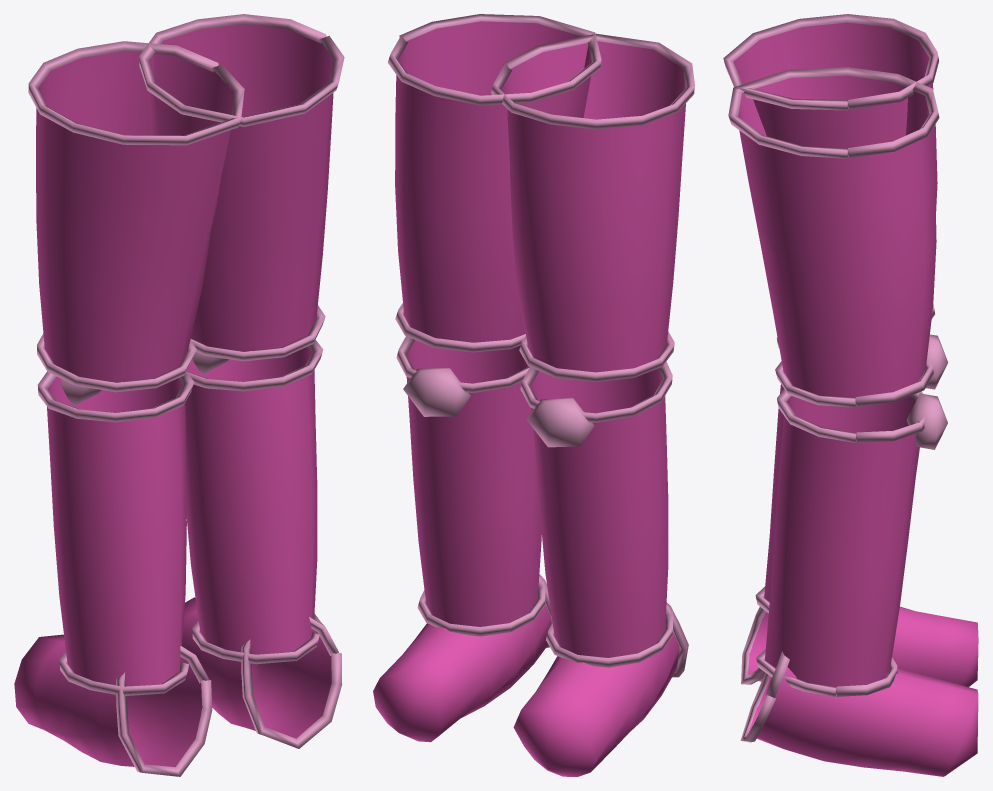
The model's file is orichalcum_greaves.glb.
3 renders of one model, left to right at view 1: azimuth 30°, elevation 25°; view 2: azimuth 150°, elevation 25°; view 3: azimuth 270°, elevation 25°, orthographic. The views are drawn at different scales.
Visible parts, largest first — view 1: orichalcum_greaves_cuisse.L; view 2: orichalcum_greaves_cuisse.L; view 3: orichalcum_greaves_cuisse.L.
Part boxes in pixels (x1,y1,x2,y2): orichalcum_greaves_cuisse.L: (14,14,344,776); orichalcum_greaves_cuisse.L: (373,14,694,776); orichalcum_greaves_cuisse.L: (723,14,978,776).
Bounding box in the file's own units: 0.4249 × 0.9563 × 0.3366.
